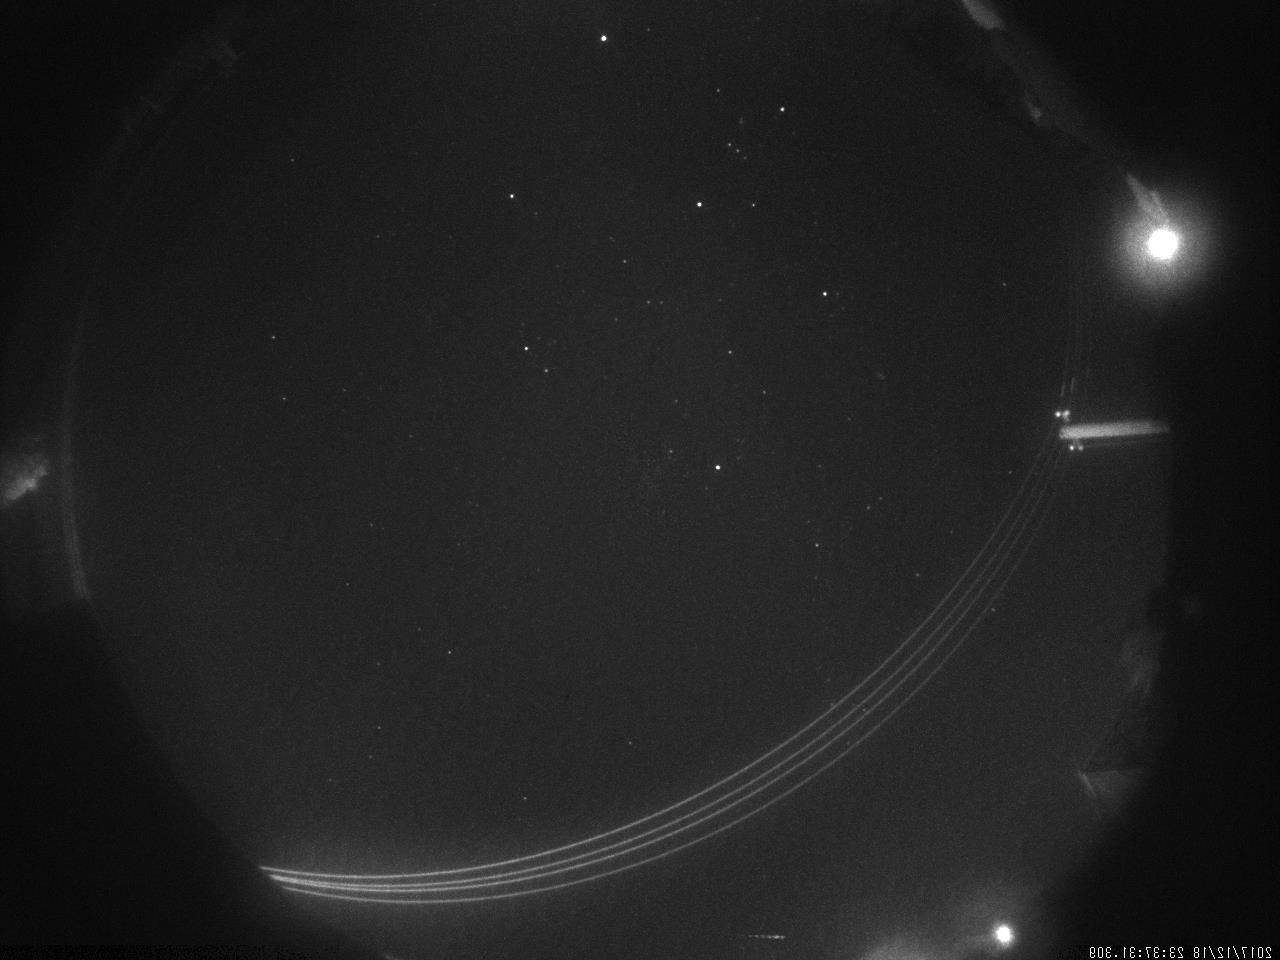meteor: (742, 926, 793, 947)
